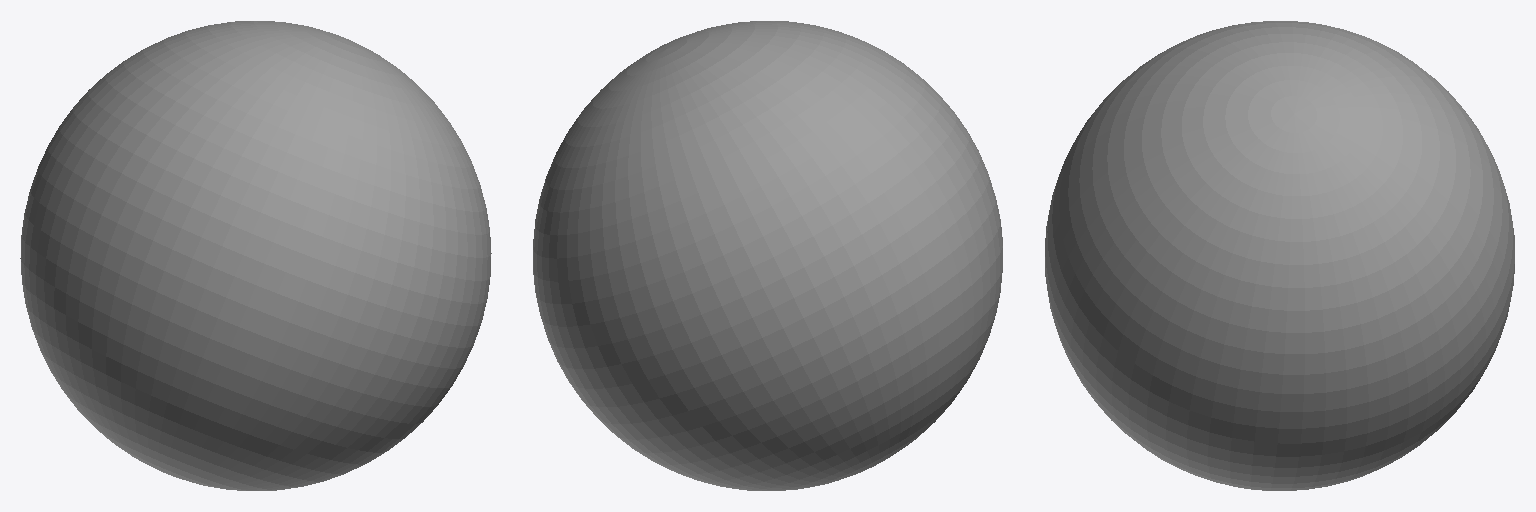
Rendered from jupiter.obj.
The picture shows the model from 3 angles: view 1: azimuth 30°, elevation 25°; view 2: azimuth 150°, elevation 25°; view 3: azimuth 270°, elevation 25°; orthographic projection.
Parts seen in each view (by area): view 1: Sphere; view 2: Sphere; view 3: Sphere.
Part boxes in pixels (bbox=[...]): Sphere: bbox=[20, 21, 491, 490]; Sphere: bbox=[533, 21, 1002, 490]; Sphere: bbox=[1045, 21, 1514, 490].
Size of the model in its own units: 18.77 by 18.77 by 18.76.